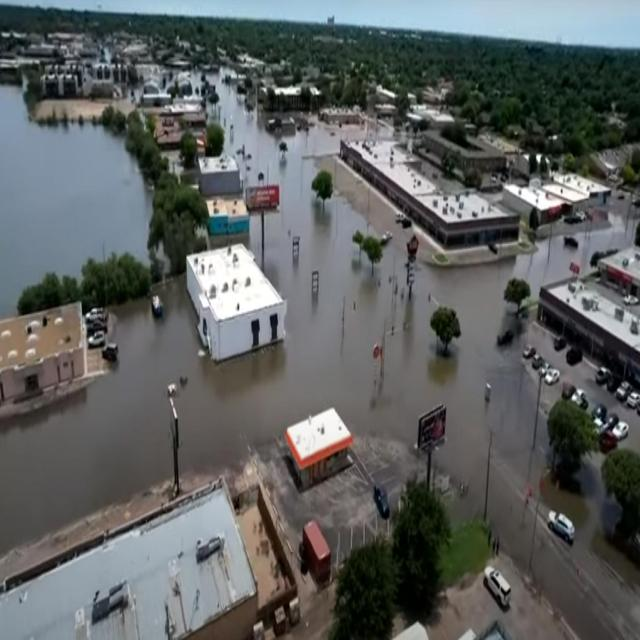flood: (0, 83, 635, 551), (0, 83, 151, 315)
house: (0, 467, 260, 640), (338, 132, 525, 242), (540, 246, 640, 398), (186, 242, 288, 364), (0, 296, 84, 412), (284, 404, 355, 492), (41, 64, 130, 107), (507, 178, 563, 232), (554, 171, 613, 217), (262, 85, 323, 128), (205, 192, 252, 240), (196, 150, 240, 199)
